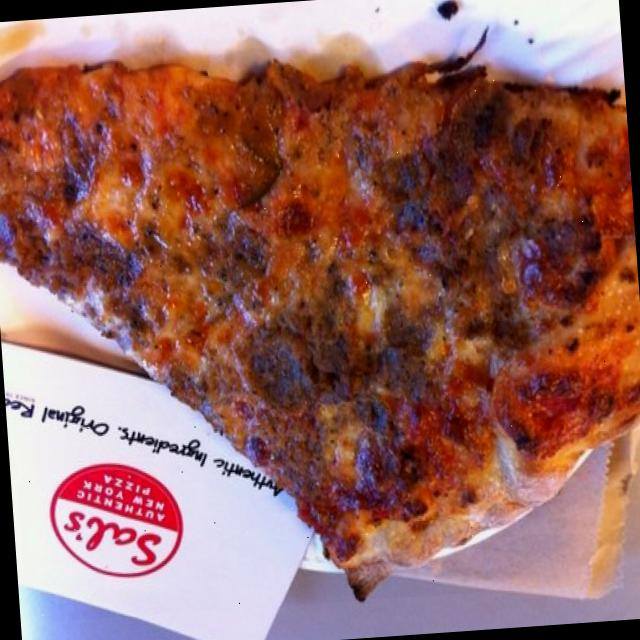pizza: (0, 64, 640, 600)
